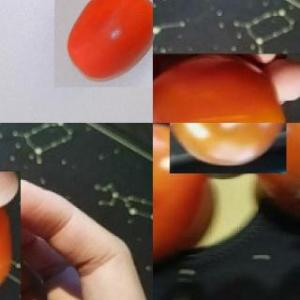tomato: (153, 123, 213, 275), (55, 1, 153, 87), (170, 123, 286, 173)
